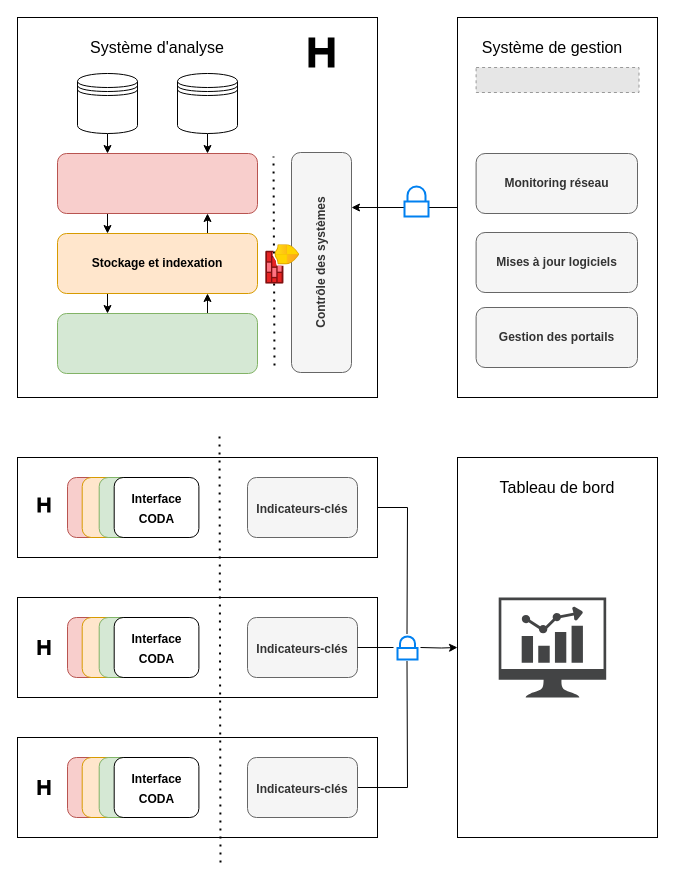
Image size: 675x882. Some labels were removed from this diagram. Grey dashed boxes stand in for pictures. Here are the shapes that lost their labels. From the top down, the centre of each, then its label:
(x=157, y=183): Standardisation et anonymisation
(x=157, y=343): Analyse et calculs
